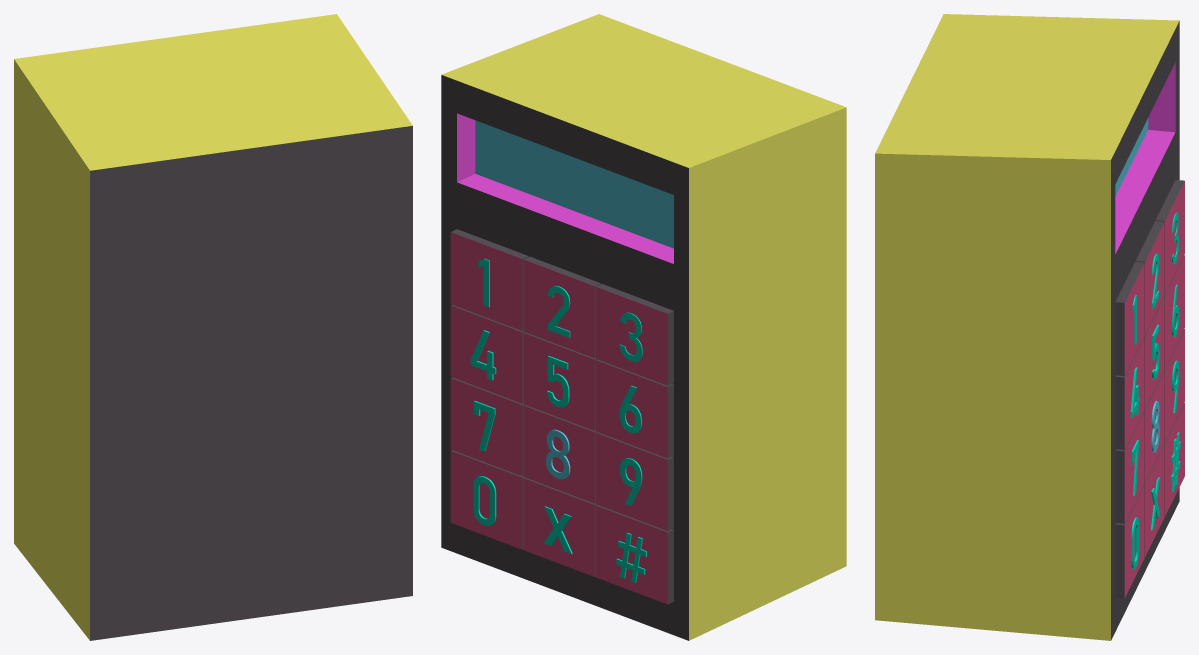
Rendered from ElectronickLock2.fbx.
The picture shows the model from 3 angles, left to right: view 1: azimuth 30°, elevation 25°; view 2: azimuth 150°, elevation 25°; view 3: azimuth 270°, elevation 25°; orthographic projection. The views are drawn at different scales.
Visible parts, largest first — view 1: Cube; view 2: Cube, Cube.003, Cube.012, Cube.001, Cube.009, Cube.006, Cube.002, Cube.010, Cube.007, Cube.004, Cube.011, Cube.008 (+1 smaller); view 3: Cube, Cube.001, Cube.010, Cube.007, Cube.004, Cube.003, Cube.002, Cube.012, Cube.011, Cube.009, Cube.006, Cube.005 (+1 smaller).
Part boxes in pixels (x1=…): Cube: x1=14, y1=14, x2=412, y2=640; Cube: x1=441, y1=14, x2=846, y2=640; Cube.003: x1=596, y1=284, x2=673, y2=385; Cube.012: x1=596, y1=505, x2=673, y2=604; Cube.001: x1=450, y1=229, x2=528, y2=330; Cube.009: x1=596, y1=432, x2=673, y2=530; Cube.006: x1=596, y1=359, x2=673, y2=458; Cube.002: x1=523, y1=256, x2=600, y2=358; Cube.010: x1=450, y1=450, x2=524, y2=549; Cube.007: x1=450, y1=377, x2=524, y2=476; Cube.004: x1=450, y1=304, x2=524, y2=403; Cube.011: x1=523, y1=477, x2=597, y2=576; Cube.008: x1=523, y1=405, x2=597, y2=503; Cube: x1=875, y1=14, x2=1179, y2=640; Cube.001: x1=1115, y1=261, x2=1144, y2=375; Cube.010: x1=1115, y1=485, x2=1144, y2=598; Cube.007: x1=1115, y1=411, x2=1144, y2=523; Cube.004: x1=1115, y1=337, x2=1144, y2=449; Cube.003: x1=1155, y1=180, x2=1184, y2=293; Cube.002: x1=1135, y1=221, x2=1164, y2=334; Cube.012: x1=1164, y1=403, x2=1184, y2=516; Cube.011: x1=1144, y1=444, x2=1164, y2=556; Cube.009: x1=1164, y1=329, x2=1184, y2=441; Cube.006: x1=1164, y1=255, x2=1184, y2=367; Cube.005: x1=1144, y1=296, x2=1164, y2=408.
Bounding box in the file's own units: 7.87 × 11.01 × 6.43.
